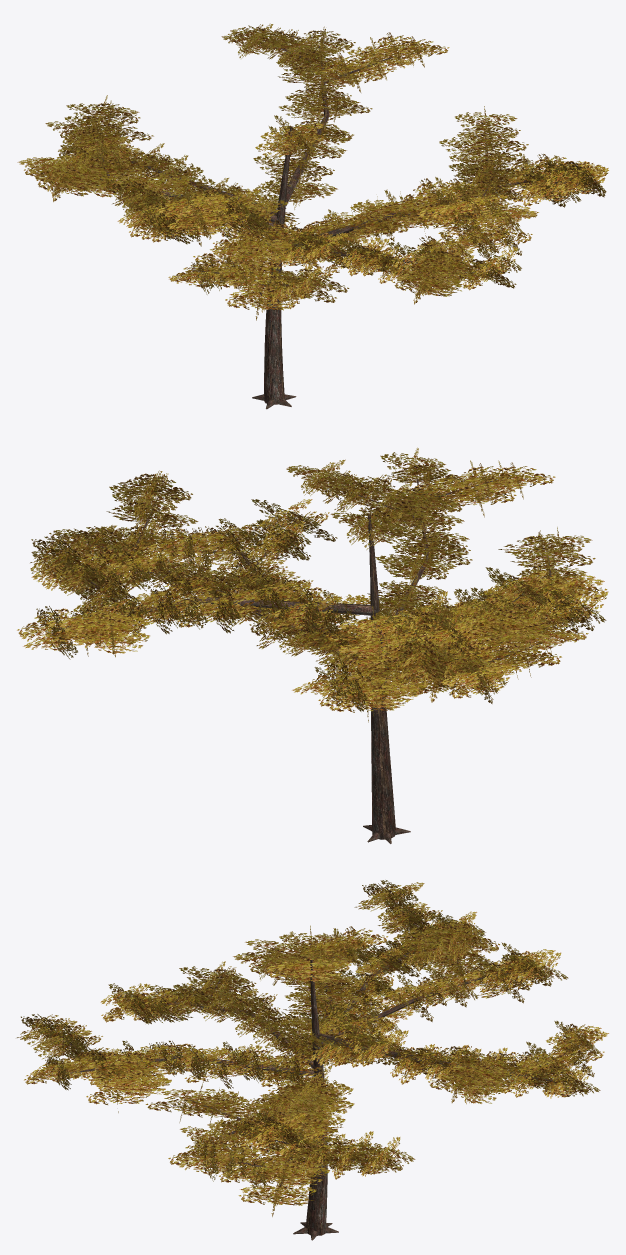
File: tree_3d_06_yellow_lod0.glb
The picture shows the model from 3 angles, top to bottom: view 1: azimuth 30°, elevation 25°; view 2: azimuth 150°, elevation 25°; view 3: azimuth 270°, elevation 25°; orthographic projection. The views are drawn at different scales.
Parts seen in each view (by area): view 1: foliage_cards, wood_geometry; view 2: foliage_cards, wood_geometry; view 3: foliage_cards, wood_geometry.
Boxes of the visible parts, box(x1,y1,x2,y2) form: foliage_cards: box(17, 23, 608, 320); wood_geometry: box(80, 40, 575, 409); foliage_cards: box(17, 447, 608, 722); wood_geometry: box(58, 478, 580, 843); foliage_cards: box(17, 880, 608, 1216); wood_geometry: box(61, 900, 581, 1240).
Bounding box in the file's own units: 14.66 × 7.46 × 14.25.
2 materials, 2 textured.
